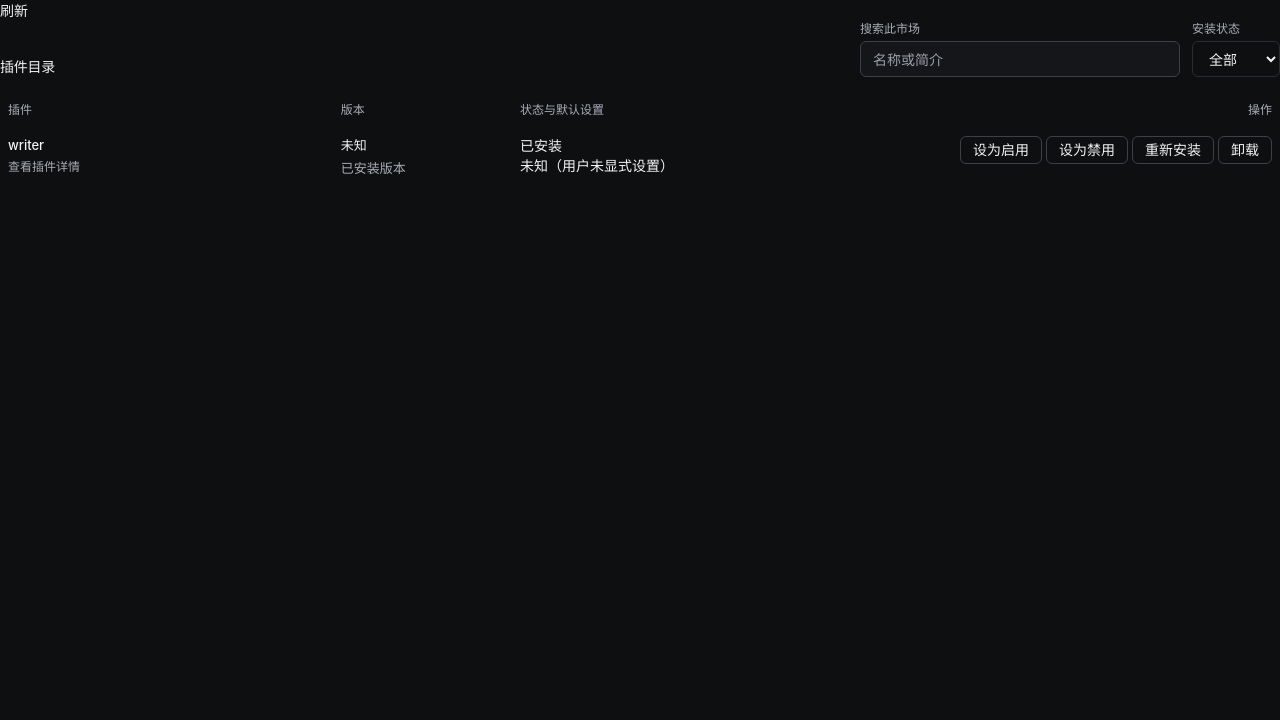
Scenario: Codex plugin management › allows explicit choices for an unknown default and saves only after confirmation
Click the button with aria-label "启用 writer（community）".
click(1001, 150)  # box [960,136,1042,164]
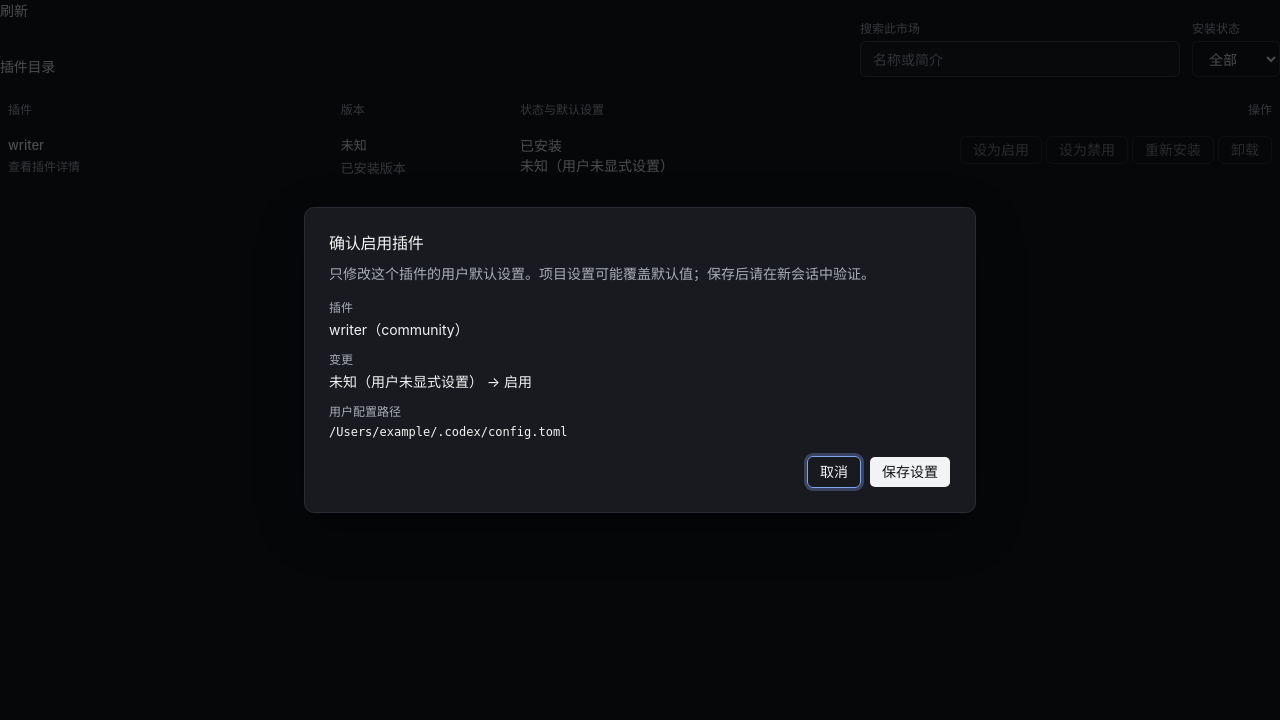
Check: the dialog shows "未知（用户未显式设置） → 启用", box [329,373,532,390]
Click the button "保存设置".
click(910, 472)  # box [869,456,951,488]
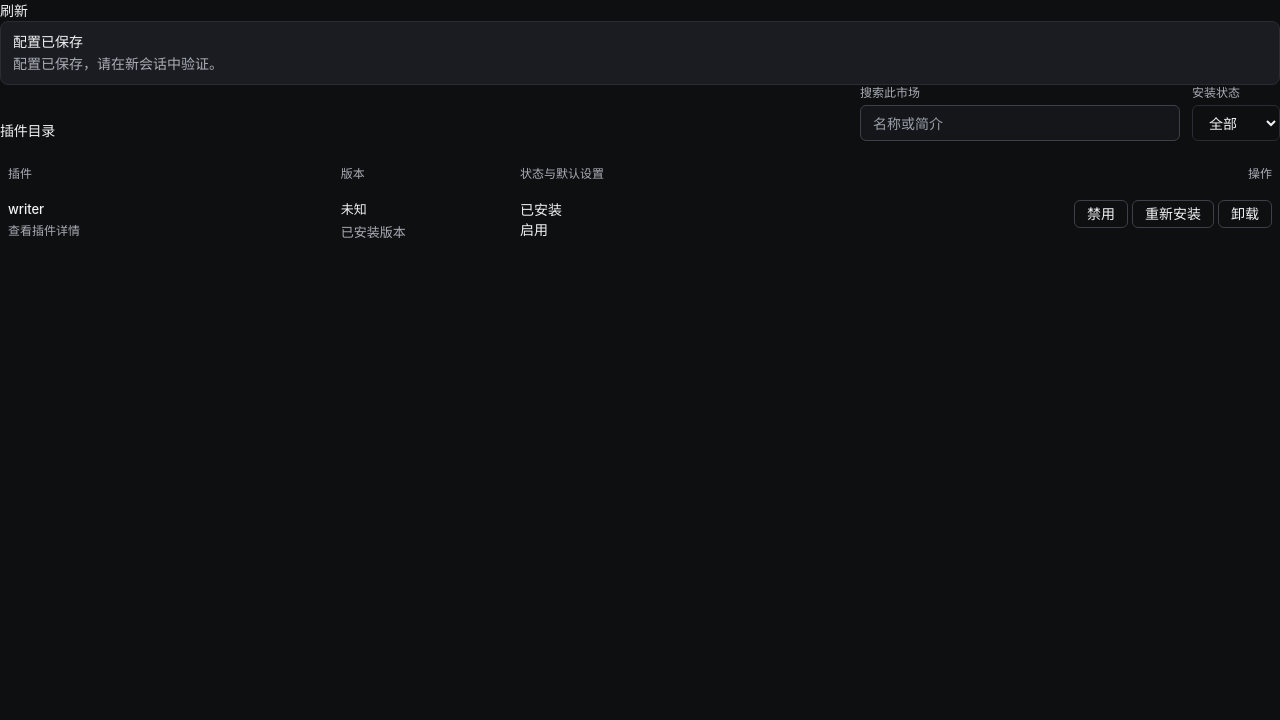
Check: the button with aria-label "禁用 writer（community）" is shown, box [1074,200,1128,228]
Check: the dialog is gone
